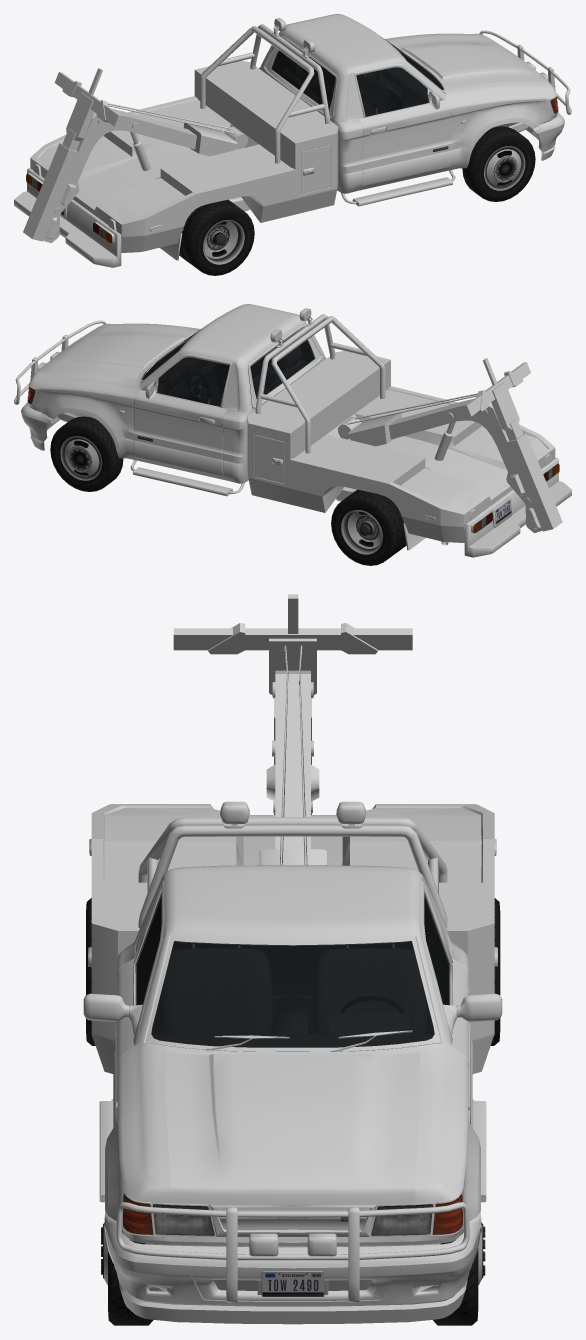
File: Utility90_Towtruck.fbx
3 renders of one model, top to bottom at view 1: azimuth 30°, elevation 25°; view 2: azimuth 150°, elevation 25°; view 3: azimuth 270°, elevation 25°, orthographic. The views are drawn at different scales.
Parts seen in each view (by area): view 1: UTLTRUCK90_Towtruck_Bed_Inner, UTLTRUCK90_Towtruck_Bed, UTLTRUCK90_Body, UTLTRUCK90_bottom, UTLTRUCK90_Hood, UTLTRUCK90_WheelStock_RR, UTLTRUCK90_WheelStock_FR, UTLTRUCK90_Interior, UTLTRUCK90_Bumper_rear, UTLTRUCK90_Glass_Passenger, UTLTRUCK90_Glass_Rear, UTLTRUCK90_Bullbar_A (+3 smaller); view 2: UTLTRUCK90_Towtruck_Bed_Inner, UTLTRUCK90_Towtruck_Bed, UTLTRUCK90_Body, UTLTRUCK90_bottom, UTLTRUCK90_Hood, UTLTRUCK90_WheelStock_RL, UTLTRUCK90_WheelStock_FL, UTLTRUCK90_Interior, UTLTRUCK90_Bumper_rear, UTLTRUCK90_Glass_Driver, UTLTRUCK90_Glass_Rear, UTLTRUCK90_Bullbar_A (+3 smaller); view 3: UTLTRUCK90_Body, UTLTRUCK90_Hood, UTLTRUCK90_Towtruck_Bed_Inner, UTLTRUCK90_Interior, UTLTRUCK90_Windshield, UTLTRUCK90_Towtruck_Bed, UTLTRUCK90_bottom, UTLTRUCK90_Bumper_front_inner, UTLTRUCK90_Bullbar_A, UTLTRUCK90_Bumper_Front, UTLTRUCK90_Headlights_Glass, UTLTRUCK90_Headlights (+6 smaller).
Boxes of the visible parts, left/top/right/bottom form: UTLTRUCK90_Towtruck_Bed_Inner: left=23, top=18, right=330, bottom=241; UTLTRUCK90_Towtruck_Bed: left=30, top=60, right=338, bottom=252; UTLTRUCK90_Body: left=259, top=14, right=556, bottom=173; UTLTRUCK90_bottom: left=160, top=35, right=558, bottom=260; UTLTRUCK90_Hood: left=389, top=35, right=548, bottom=88; UTLTRUCK90_WheelStock_RR: left=179, top=199, right=254, bottom=275; UTLTRUCK90_WheelStock_FR: left=462, top=126, right=535, bottom=201; UTLTRUCK90_Interior: left=271, top=35, right=442, bottom=116; UTLTRUCK90_Bumper_rear: left=14, top=164, right=121, bottom=267; UTLTRUCK90_Glass_Passenger: left=356, top=67, right=428, bottom=116; UTLTRUCK90_Glass_Rear: left=271, top=42, right=335, bottom=110; UTLTRUCK90_Bullbar_A: left=479, top=30, right=571, bottom=114; UTLTRUCK90_Towtruck_Bed_Inner: left=255, top=308, right=562, bottom=531; UTLTRUCK90_Towtruck_Bed: left=247, top=350, right=555, bottom=542; UTLTRUCK90_Body: left=29, top=304, right=326, bottom=463; UTLTRUCK90_bottom: left=27, top=325, right=448, bottom=550; UTLTRUCK90_Hood: left=37, top=325, right=196, bottom=378; UTLTRUCK90_WheelStock_RL: left=331, top=489, right=406, bottom=565; UTLTRUCK90_WheelStock_FL: left=50, top=416, right=123, bottom=491; UTLTRUCK90_Interior: left=143, top=341, right=313, bottom=408; UTLTRUCK90_Bumper_rear: left=464, top=453, right=571, bottom=557; UTLTRUCK90_Glass_Driver: left=157, top=357, right=229, bottom=406; UTLTRUCK90_Glass_Rear: left=250, top=333, right=314, bottom=398; UTLTRUCK90_Bullbar_A: left=14, top=320, right=106, bottom=404; UTLTRUCK90_Body: left=105, top=865, right=480, bottom=1245; UTLTRUCK90_Hood: left=165, top=1052, right=420, bottom=1205; UTLTRUCK90_Towtruck_Bed_Inner: left=88, top=594, right=497, bottom=966; UTLTRUCK90_Interior: left=137, top=897, right=448, bottom=1047; UTLTRUCK90_Windshield: left=151, top=941, right=434, bottom=1047; UTLTRUCK90_Towtruck_Bed: left=91, top=670, right=494, bottom=1073; UTLTRUCK90_bottom: left=83, top=877, right=502, bottom=1247; UTLTRUCK90_Bumper_front_inner: left=104, top=1227, right=481, bottom=1324; UTLTRUCK90_Bullbar_A: left=116, top=1202, right=469, bottom=1302; UTLTRUCK90_Bumper_Front: left=104, top=1211, right=481, bottom=1268; UTLTRUCK90_Headlights_Glass: left=123, top=1194, right=462, bottom=1235; UTLTRUCK90_Headlights: left=153, top=1204, right=432, bottom=1235.
Bounding box in the file's own units: 5.66 × 1.97 × 2.
